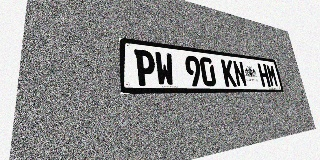0: (199, 57, 217, 86)
9: (184, 55, 203, 86)
H: (257, 63, 271, 87)
K: (221, 59, 237, 87)
M: (266, 64, 279, 87)
N: (232, 60, 247, 87)
P: (134, 49, 156, 86)
W: (154, 51, 175, 86)
